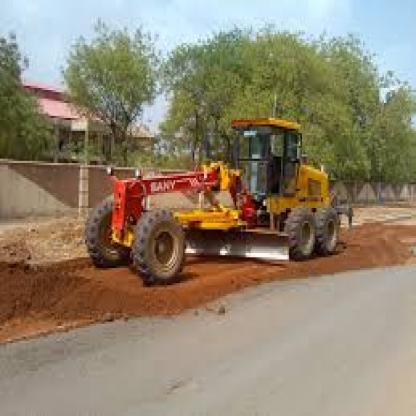bull_dozer/loader/grader: (77, 96, 358, 276)
